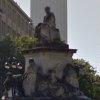Statue: (23, 5, 72, 63)
